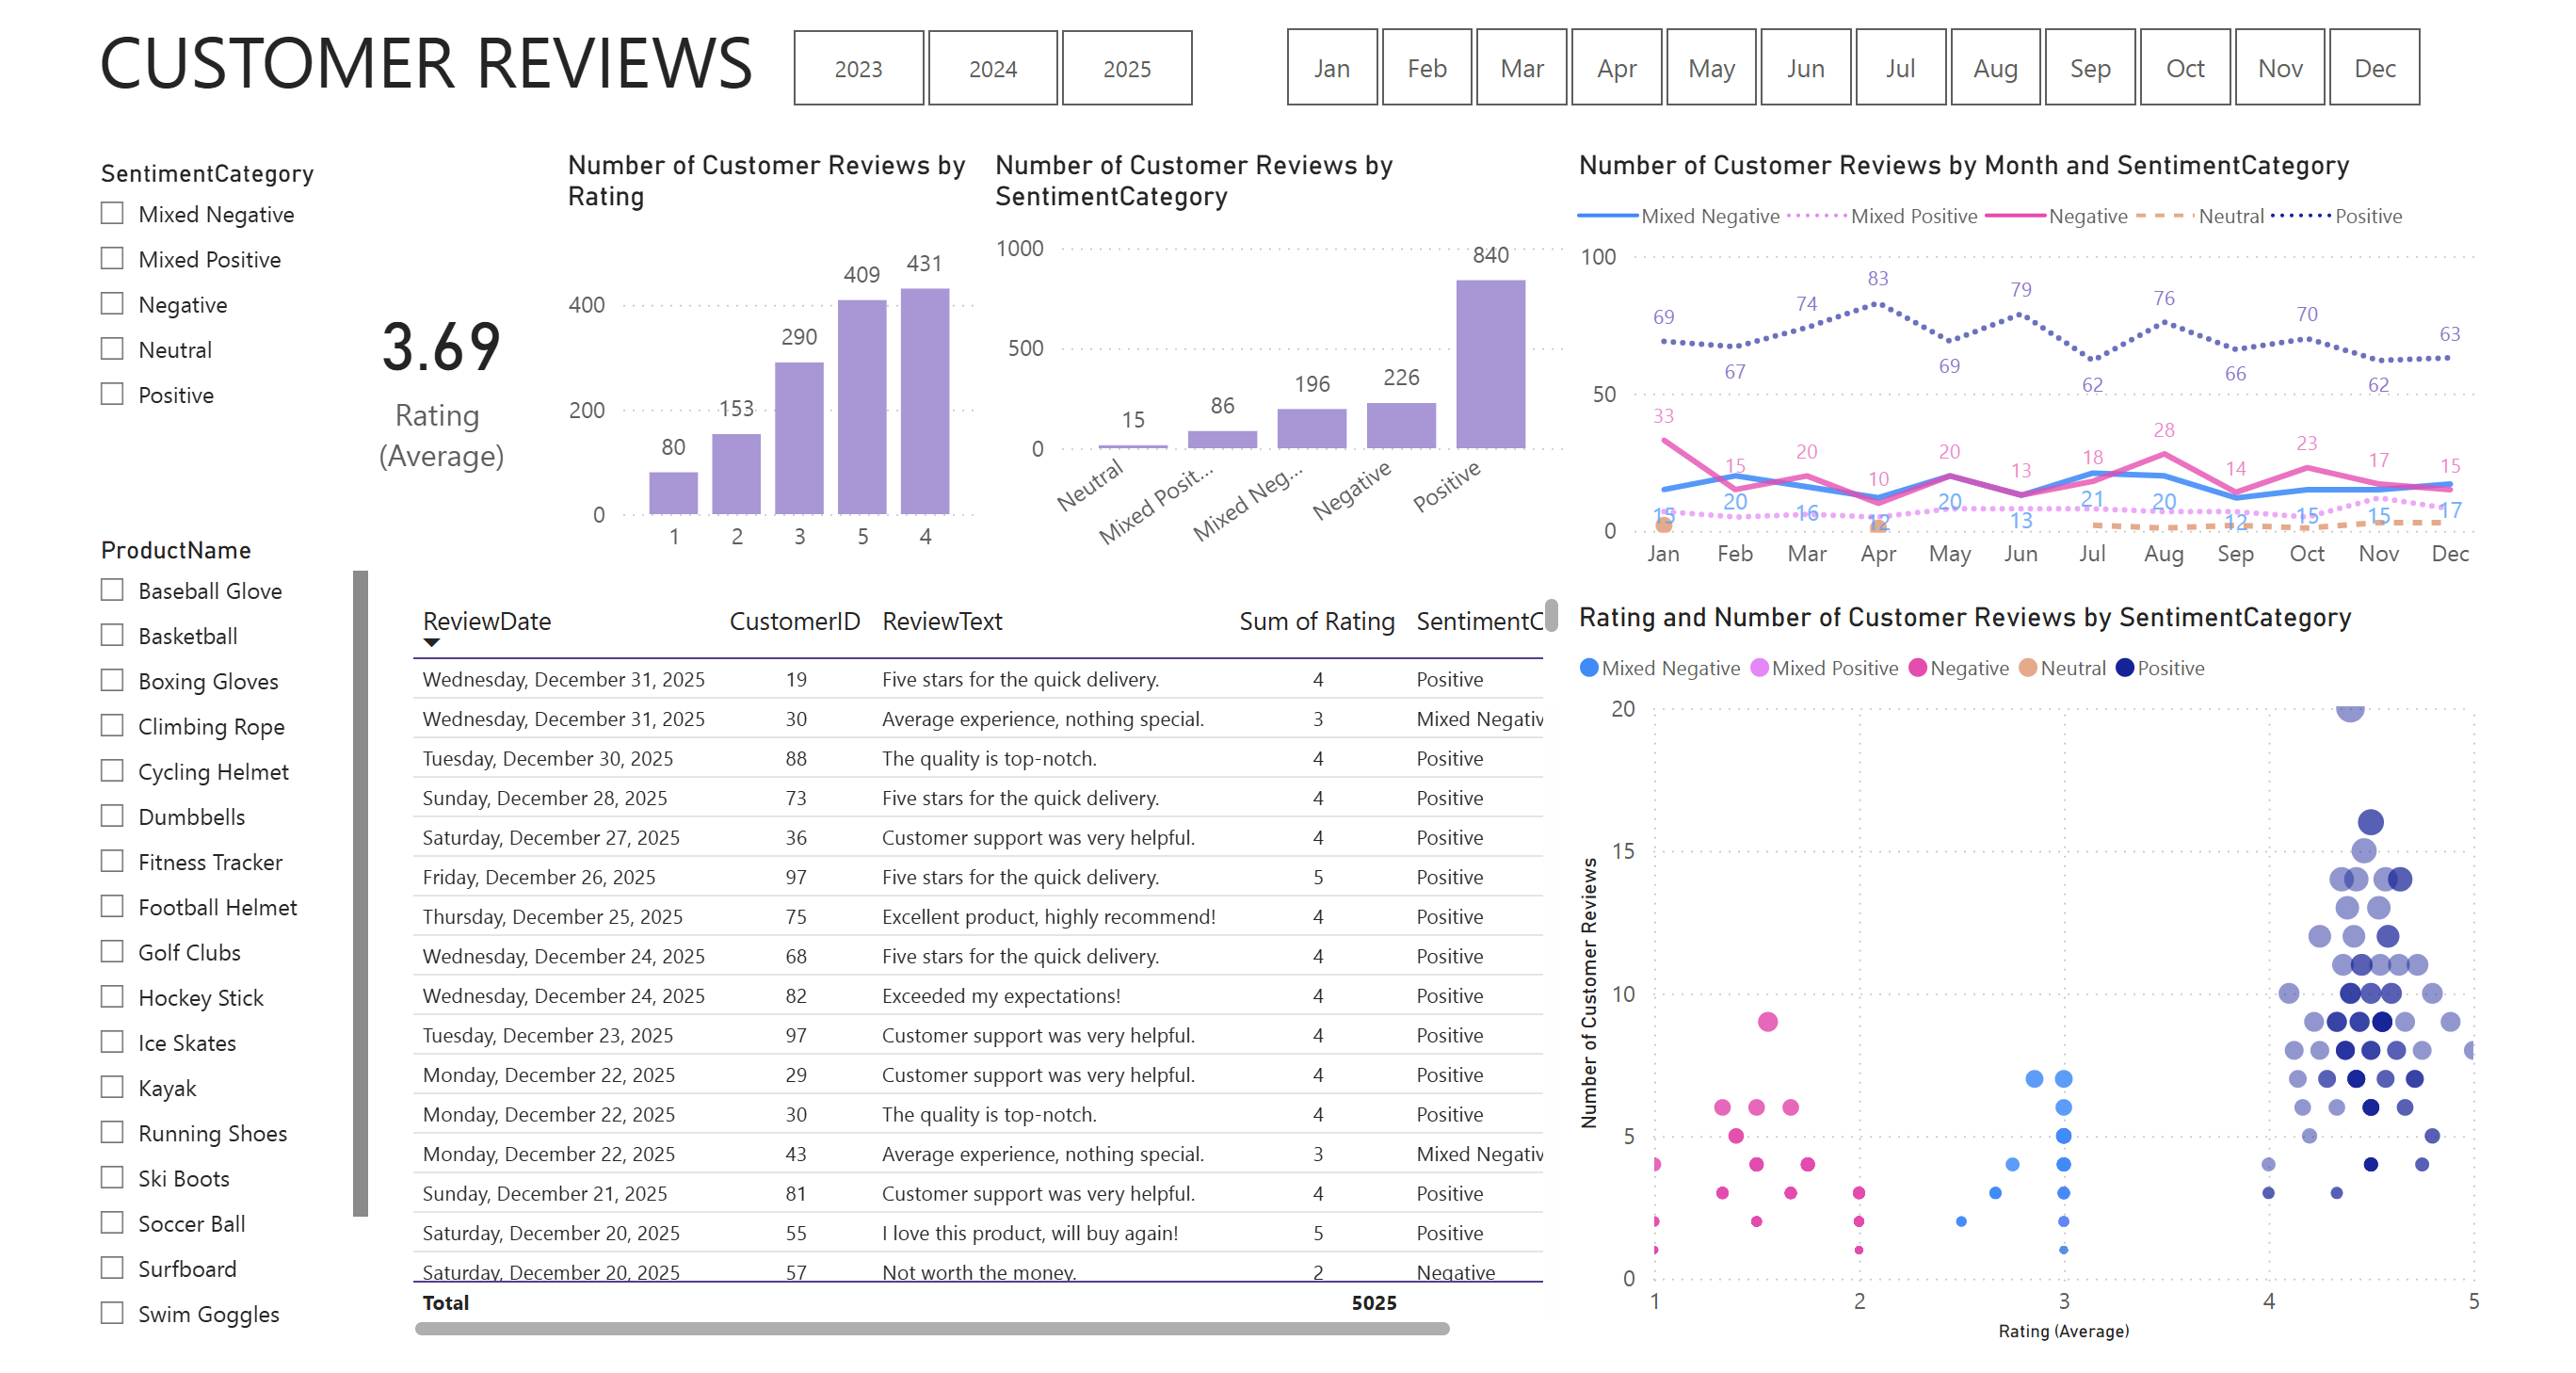

What the dashboard file says about the page in this screenshot:
{"tool":"powerbi","page":{"name":"customer review","canvas":[1280,720],"ordinal":3},"visuals":[{"type":"slicer","fields":{"Values":["Calendar.Year"]},"box":[355,15,262,54],"z":0},{"type":"slicer","fields":{"Values":["dim_products.ProductName"]},"box":[0,285.4,160,434.1],"z":1000},{"type":"textbox","box":[7,7,370,78],"z":2000},{"type":"card","fields":{"Values":["_calculations (2).Rating (Average)"]},"box":[132,85,124,224],"z":3000},{"type":"slicer","fields":{"Values":["Calendar.MonthNameShort"]},"box":[617,14,652,55],"z":4000},{"type":"clusteredColumnChart","fields":{"Category":["fact_customer_reviews_with_sentiment.Rating"],"Y":["_calculations (2).Number of Customer Reviews"]},"box":[256,85,227,224],"z":5000},{"type":"clusteredColumnChart","fields":{"Y":["_calculations (2).Number of Customer Reviews"],"Category":["fact_customer_reviews_with_sentiment.SentimentCategory"]},"box":[483,85,312,224],"z":6000},{"type":"lineChart","title":"Number of Customer Reviews by Month and SentimentCategory","fields":{"Y":["_calculations (2).Number of Customer Reviews"],"Series":["fact_customer_reviews_with_sentiment.SentimentCategory"],"Category":["Calendar.MonthNameShort"]},"box":[793,85,488,233],"z":7000},{"type":"tableEx","fields":{"Values":["fact_customer_reviews_with_sentiment.ReviewDate","fact_customer_reviews_with_sentiment.CustomerID","fact_customer_reviews_with_sentiment.ReviewText","Sum(fact_customer_reviews_with_sentiment.Rating)","fact_customer_reviews_with_sentiment.SentimentCategory"]},"box":[172.6,317.9,620,403.2],"z":8000},{"type":"scatterChart","title":"Rating and Number of Customer Reviews by SentimentCategory","fields":{"Category":["fact_customer_reviews_with_sentiment.CustomerID"],"X":["_calculations (2).Rating (Average)"],"Y":["_calculations (2).Number of Customer Reviews"],"Series":["fact_customer_reviews_with_sentiment.SentimentCategory"],"Size":["_calculations (2).Number of Customer Reviews"]},"box":[792.6,325.3,489.5,397.9],"z":9000},{"type":"slicer","fields":{"Values":["fact_customer_reviews_with_sentiment.SentimentCategory"]},"box":[0,85,160,193],"z":10000}]}

Visuals, with their boxes on the page's 1280x720 design canvas (x1, y1, x2, y2). These are canvas units, not pixel positions in the 2576x1373 screenshot, which may show the page scaled, cropped or inside an application window:
slicer - Calendar.Year: 355 15 617 69
slicer - dim_products.ProductName: 0 285 160 720
textbox: 7 7 377 85
card - _calculations (2).Rating (Average): 132 85 256 309
slicer - Calendar.MonthNameShort: 617 14 1269 69
clusteredColumnChart - fact_customer_reviews_with_sentiment.Rating x _calculations (2).Number of Customer Reviews: 256 85 483 309
clusteredColumnChart - _calculations (2).Number of Customer Reviews x fact_customer_reviews_with_sentiment.SentimentCategory: 483 85 795 309
"Number of Customer Reviews by Month and SentimentCategory" lineChart: 793 85 1281 318
tableEx - fact_customer_reviews_with_sentiment.ReviewDate x fact_customer_reviews_with_sentiment.CustomerID: 173 318 793 721
"Rating and Number of Customer Reviews by SentimentCategory" scatterChart: 793 325 1282 723
slicer - fact_customer_reviews_with_sentiment.SentimentCategory: 0 85 160 278
